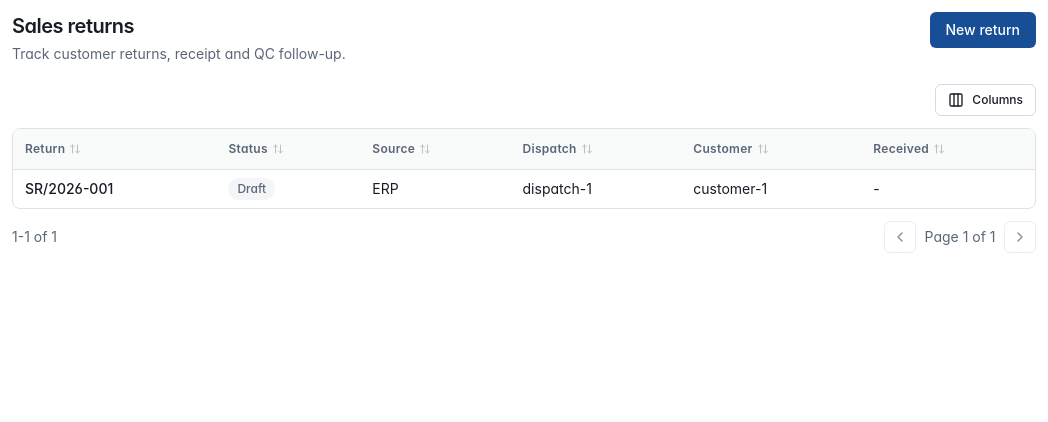
Scenario: SalesReturnsPage › shows only valid actions for a draft return
Click the button "SR/2026-001": (69, 188) [25,178,113,198]
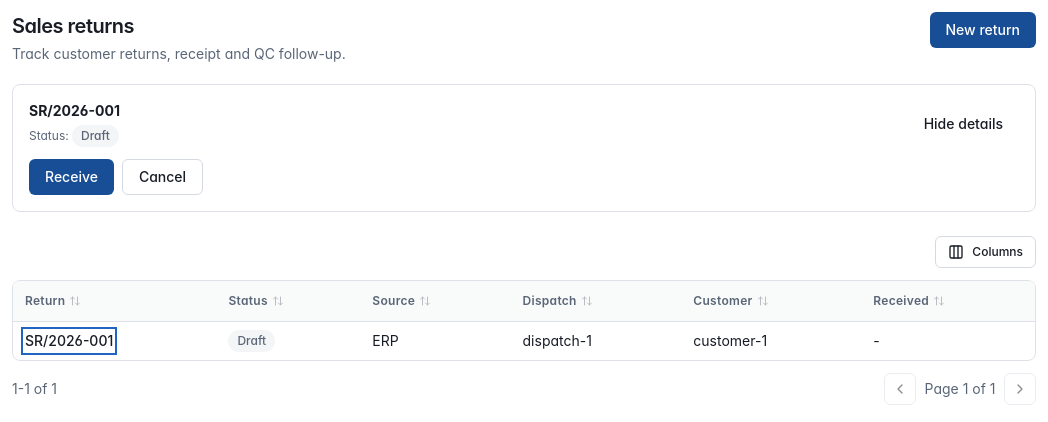
Expected: the button "Receive" is shown, [29,159,114,195]
Expected: the button "Cancel" is shown, [122,159,203,195]
